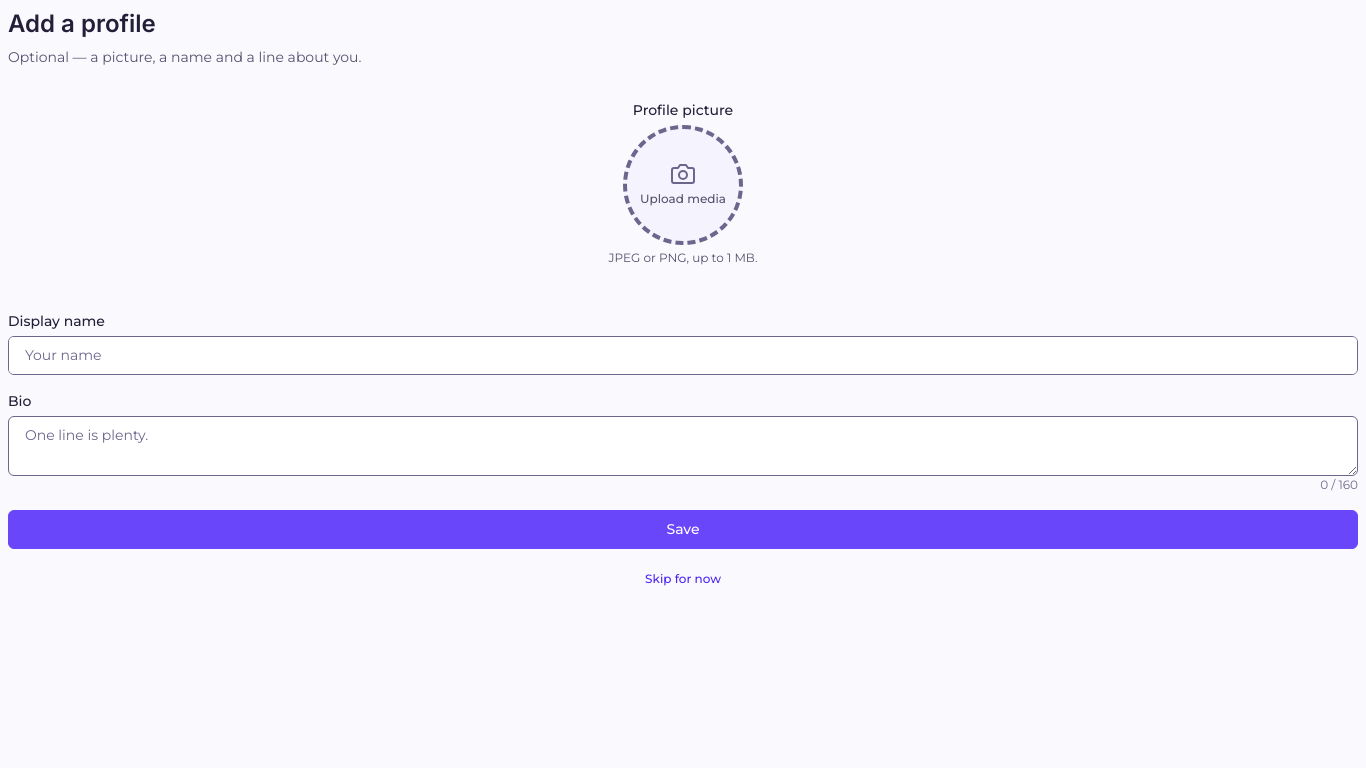
Test: saving is reported in place › names the wait on the control that started it
This screenshot has width=1366, height=768.
Click the button "Save" at {"x": 683, "y": 530}, box [8,510,1358,549]
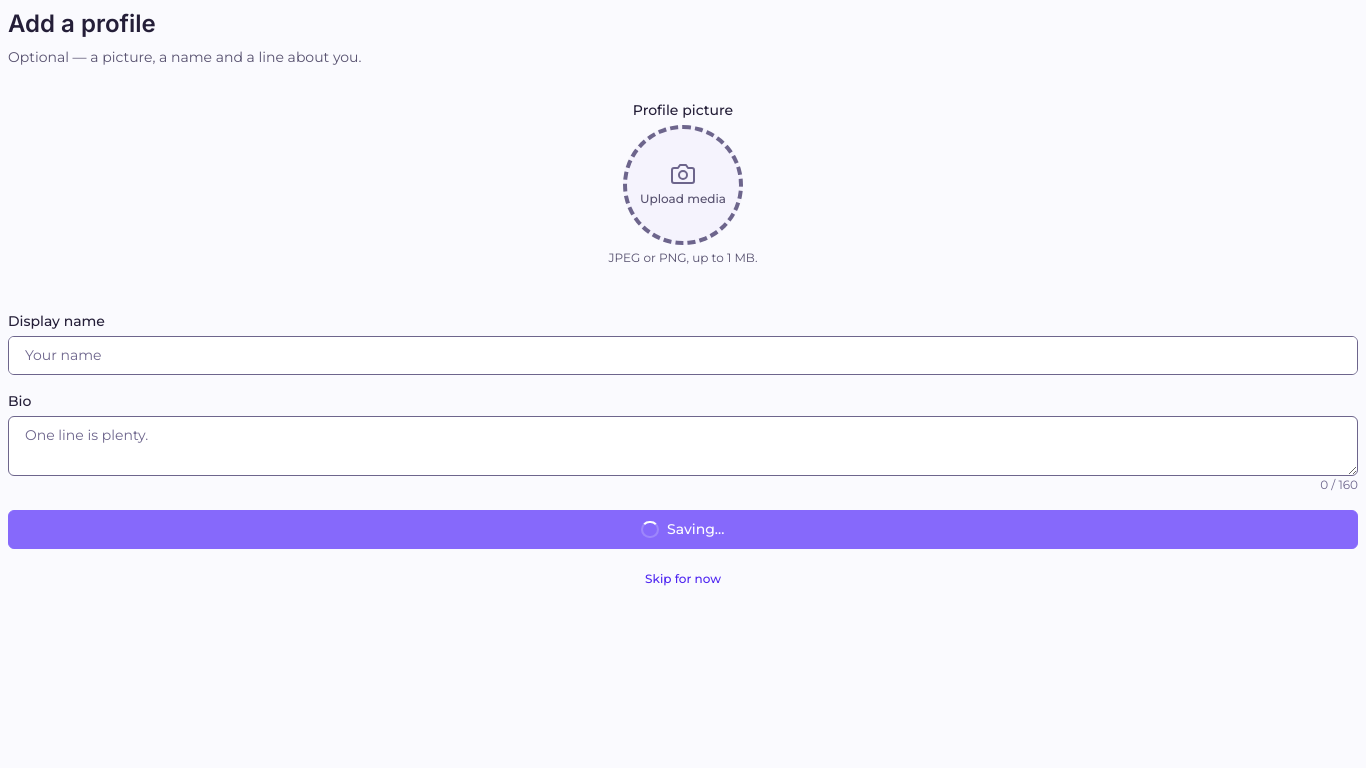
Check: the button "Saving…" is shown, box [8,510,1358,549]
